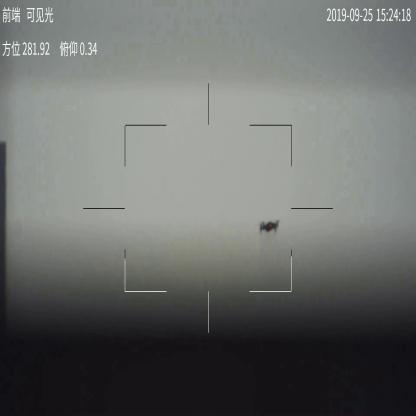uav: (257, 216, 281, 234)
